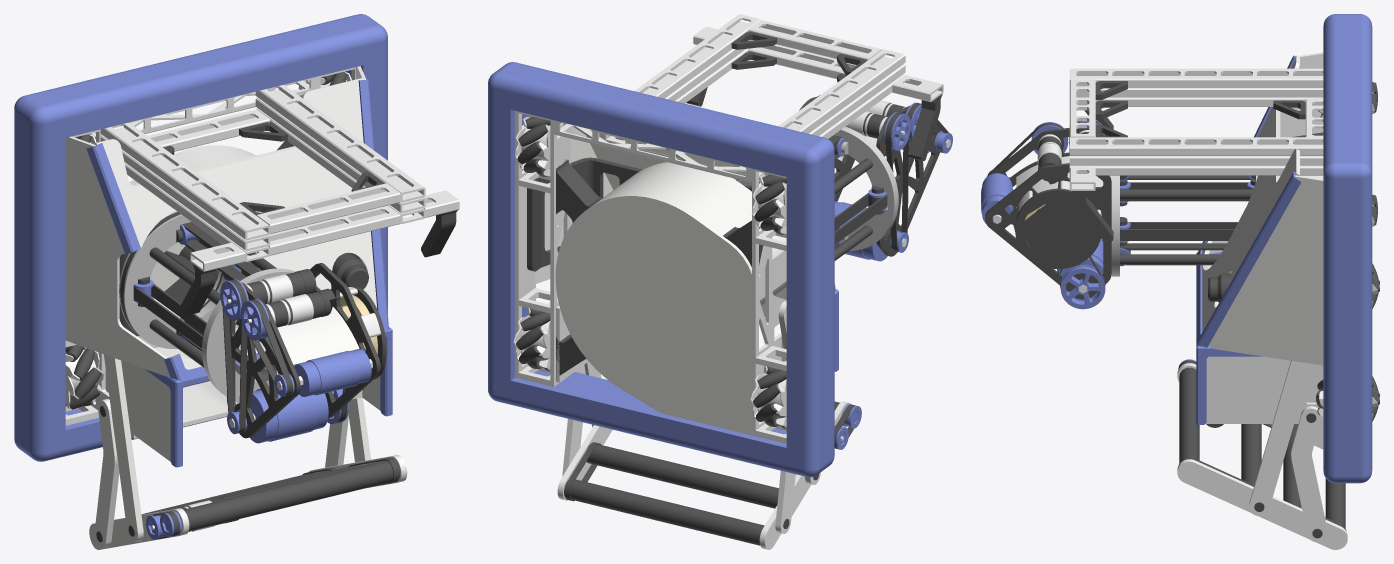
File: inertiaFBX_Rexport.fbx
3 views of the same model, side by side, from view 1: azimuth 30°, elevation 25°; view 2: azimuth 150°, elevation 25°; view 3: azimuth 270°, elevation 25° (orthographic). The views are drawn at different scales.
Visible parts, largest first — view 1: Body12, Body35, Body34, Body8, Body13.002, Body27, Body6.002, Body53.001, Body13, Body2.001, Body4, Body25.002 (+37 smaller); view 2: Body12, Body18, Body17, Body11, Body10, Body13.002, Body37, Body6.002, Body57, Body37.001, Body43, Body48 (+28 smaller); view 3: Body12, Body21, Body14, Body46.001, Body6.002, Body13.002, Body35, Body27, Body7, Body54.001, Body6, Body5 (+28 smaller).
Boxes of the visible parts, box(x1,y1,x2,y2) form: Body12: box(14, 14, 387, 461); Body35: box(93, 78, 376, 369); Body34: box(65, 136, 173, 376); Body8: box(184, 460, 400, 531); Body13.002: box(100, 122, 270, 240); Body27: box(145, 79, 392, 467); Body6.002: box(255, 85, 425, 202); Body53.001: box(227, 282, 300, 438); Body13: box(95, 360, 170, 461); Body2.001: box(119, 211, 252, 348); Body4: box(104, 354, 143, 541); Body25.002: box(256, 183, 400, 233); Body12: box(488, 62, 834, 477); Body18: box(555, 194, 751, 435); Body17: box(594, 163, 786, 305); Body11: box(564, 479, 764, 545); Body10: box(586, 444, 778, 508); Body13.002: box(778, 49, 905, 133); Body37: box(752, 168, 786, 436); Body6.002: box(634, 14, 760, 98); Body57: box(527, 157, 751, 271); Body37.001: box(834, 126, 898, 250); Body43: box(550, 119, 570, 386); Body48: box(554, 120, 764, 182); Body12: box(1323, 14, 1372, 483); Body21: box(1208, 175, 1323, 365); Body14: box(1205, 356, 1323, 423); Body46.001: box(1015, 188, 1100, 268); Body6.002: box(1069, 137, 1323, 155); Body13.002: box(1069, 68, 1323, 87); Body35: box(1202, 55, 1299, 331); Body27: box(1196, 171, 1301, 424); Body7: box(1177, 459, 1347, 549); Body54.001: box(985, 163, 1111, 299); Body6: box(1249, 360, 1311, 516); Body5: box(1291, 406, 1327, 542).
Size of the model in its own units: 58.23 by 71.14 by 62.4.
